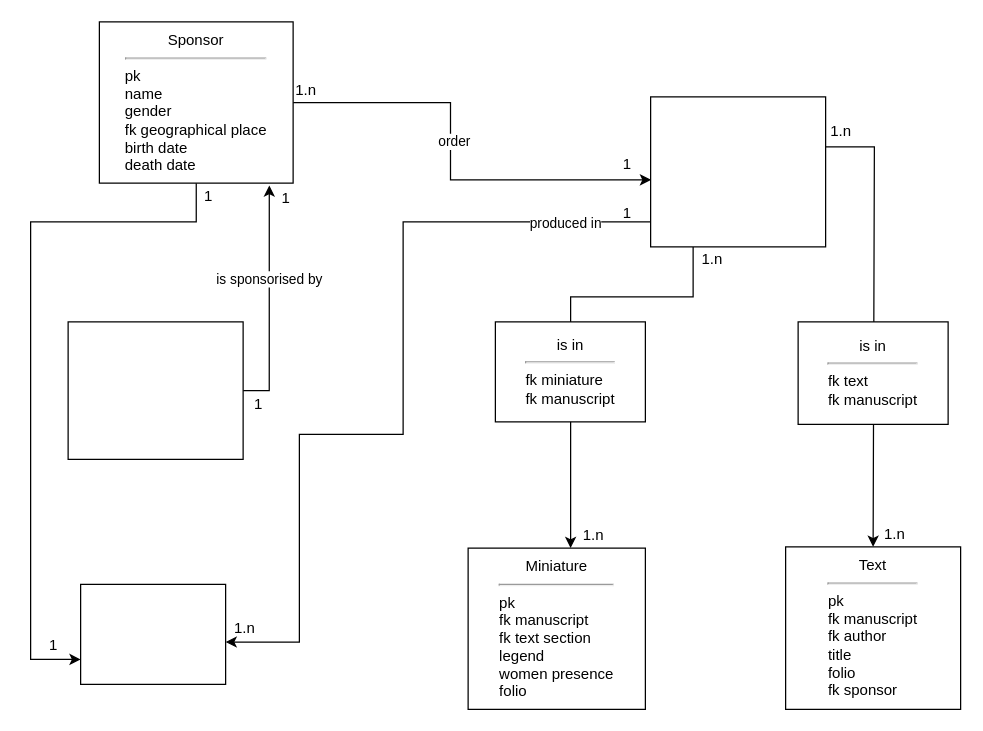
Some shapes in this 983 by 731 pixel diagram are drawn without their labels. Here are the shapes that lost their labels. From the top down, the centre of each, then its label:
At (737,171): "Manuscript pk accession_number date fk geographical place fk sponsor".
At (155,390): "Author pk name gender occupation fk sponsor".
At (152,633): "Geographical place pk place".
